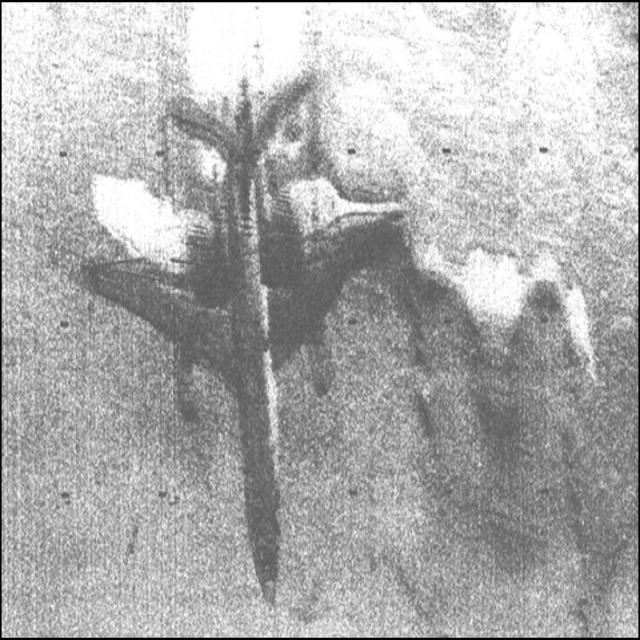plane: (75, 76, 402, 602)
